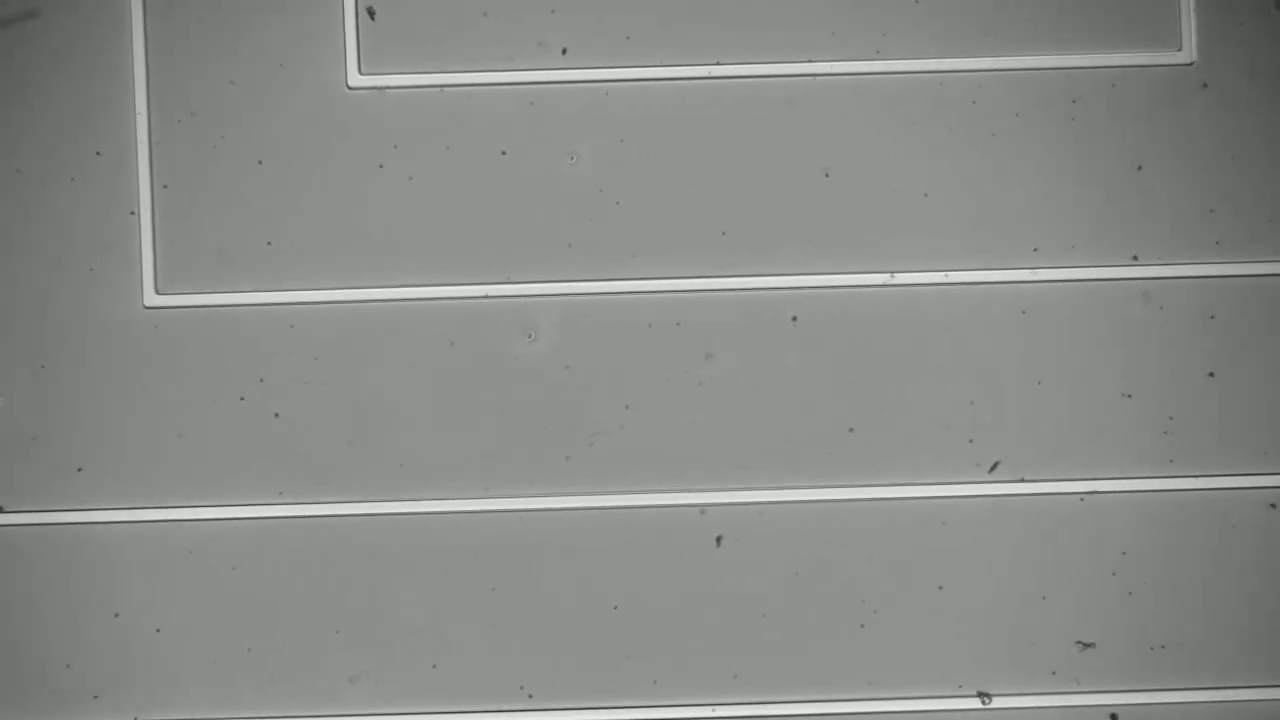stains_enbedded: (971, 686, 1003, 714)
